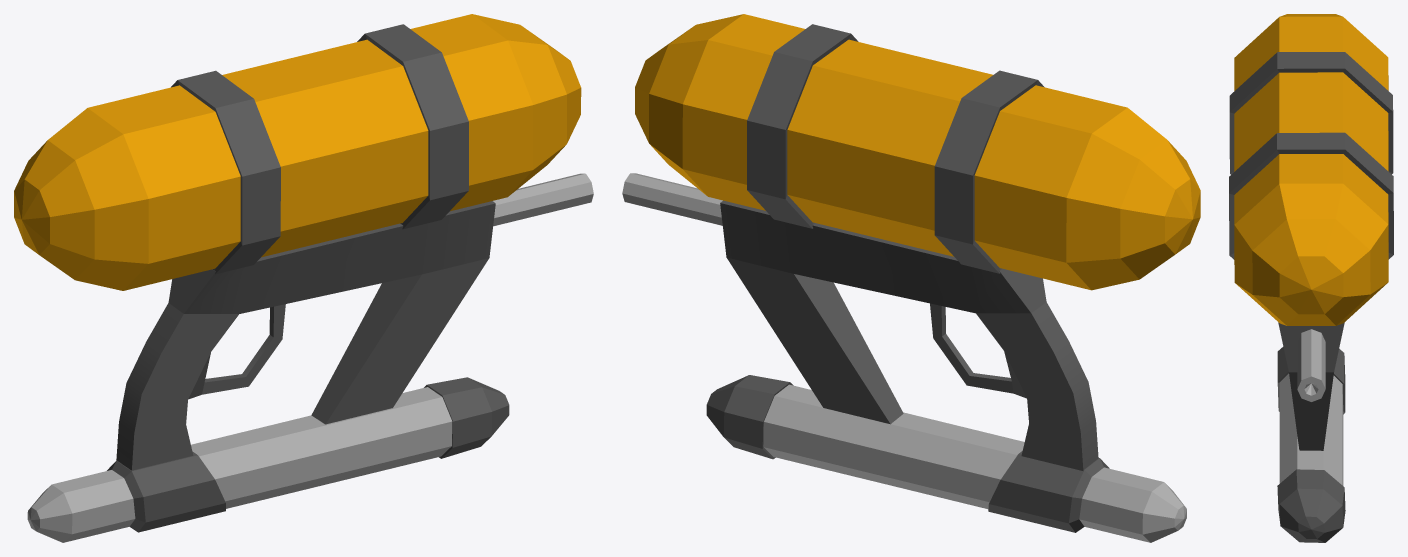
The model's file is Blaster9.fbx.
The picture shows the model from 3 angles, left to right: view 1: azimuth 30°, elevation 25°; view 2: azimuth 150°, elevation 25°; view 3: azimuth 270°, elevation 25°; orthographic projection. The views are drawn at different scales.
Visible parts, largest first — view 1: pSphere2, pCube18, pSphere3, pPipe14; view 2: pSphere2, pCube18, pSphere3, pPipe14; view 3: pSphere2, pSphere3, pCube18, pPipe14.
Part boxes in pixels (left/top/right/bottom): pSphere2: left=14, top=14, right=581, bottom=290; pCube18: left=116, top=201, right=495, bottom=470; pSphere3: left=27, top=377, right=509, bottom=542; pPipe14: left=493, top=173, right=593, bottom=226; pSphere2: left=635, top=14, right=1200, bottom=290; pCube18: left=720, top=200, right=1098, bottom=470; pSphere3: left=706, top=375, right=1186, bottom=542; pPipe14: left=622, top=173, right=722, bottom=225; pSphere2: left=1229, top=14, right=1393, bottom=325; pSphere3: left=1277, top=347, right=1345, bottom=542; pCube18: left=1278, top=322, right=1344, bottom=450; pPipe14: left=1297, top=329, right=1325, bottom=401.
Size of the model in its own units: 3.02 by 2.14 by 0.8587.
